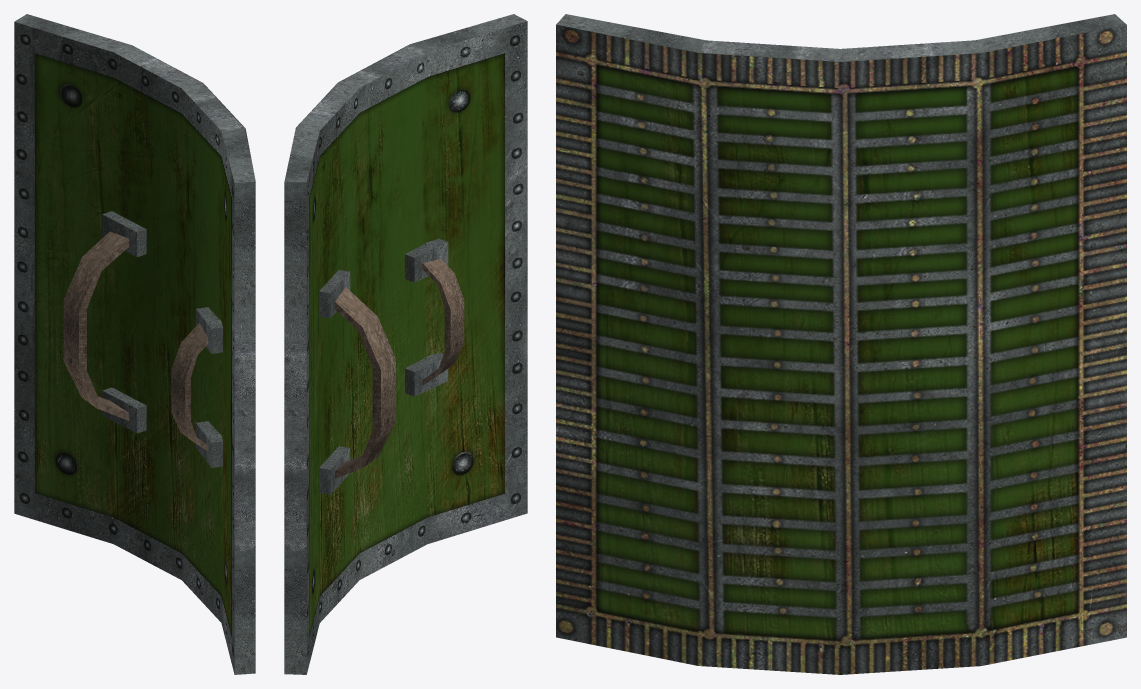
File: shield_04.FBX
3 views of the same model, side by side, from view 1: azimuth 30°, elevation 25°; view 2: azimuth 150°, elevation 25°; view 3: azimuth 270°, elevation 25° (orthographic). The views are drawn at different scales.
Parts seen in each view (by area): view 1: square_shield_05; view 2: square_shield_05; view 3: square_shield_05.
Part boxes in pixels (box(x1,y1,x2,y2)): square_shield_05: box(14, 14, 255, 674); square_shield_05: box(284, 14, 527, 674); square_shield_05: box(556, 14, 1126, 674).
Size of the model in its own units: 14.1 by 72.51 by 61.2.
